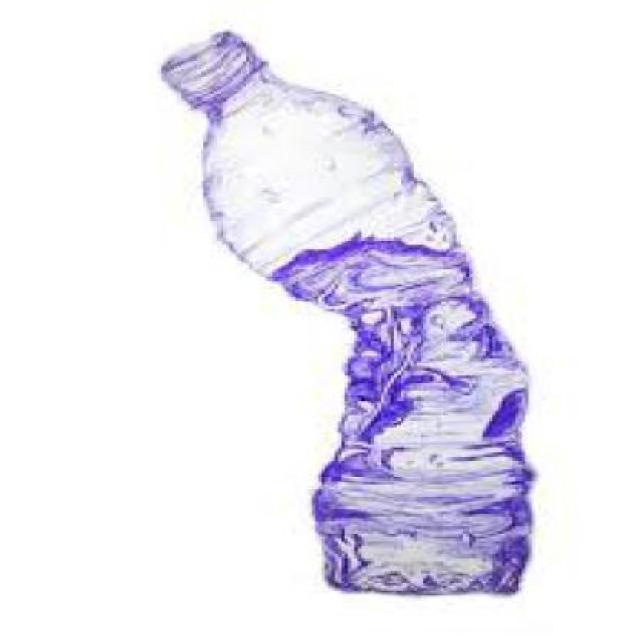PLASTIC: (154, 30, 528, 593)
